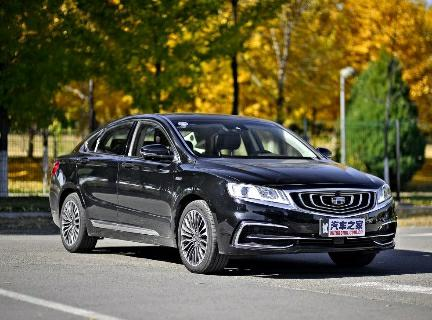car: (38, 108, 412, 280)
